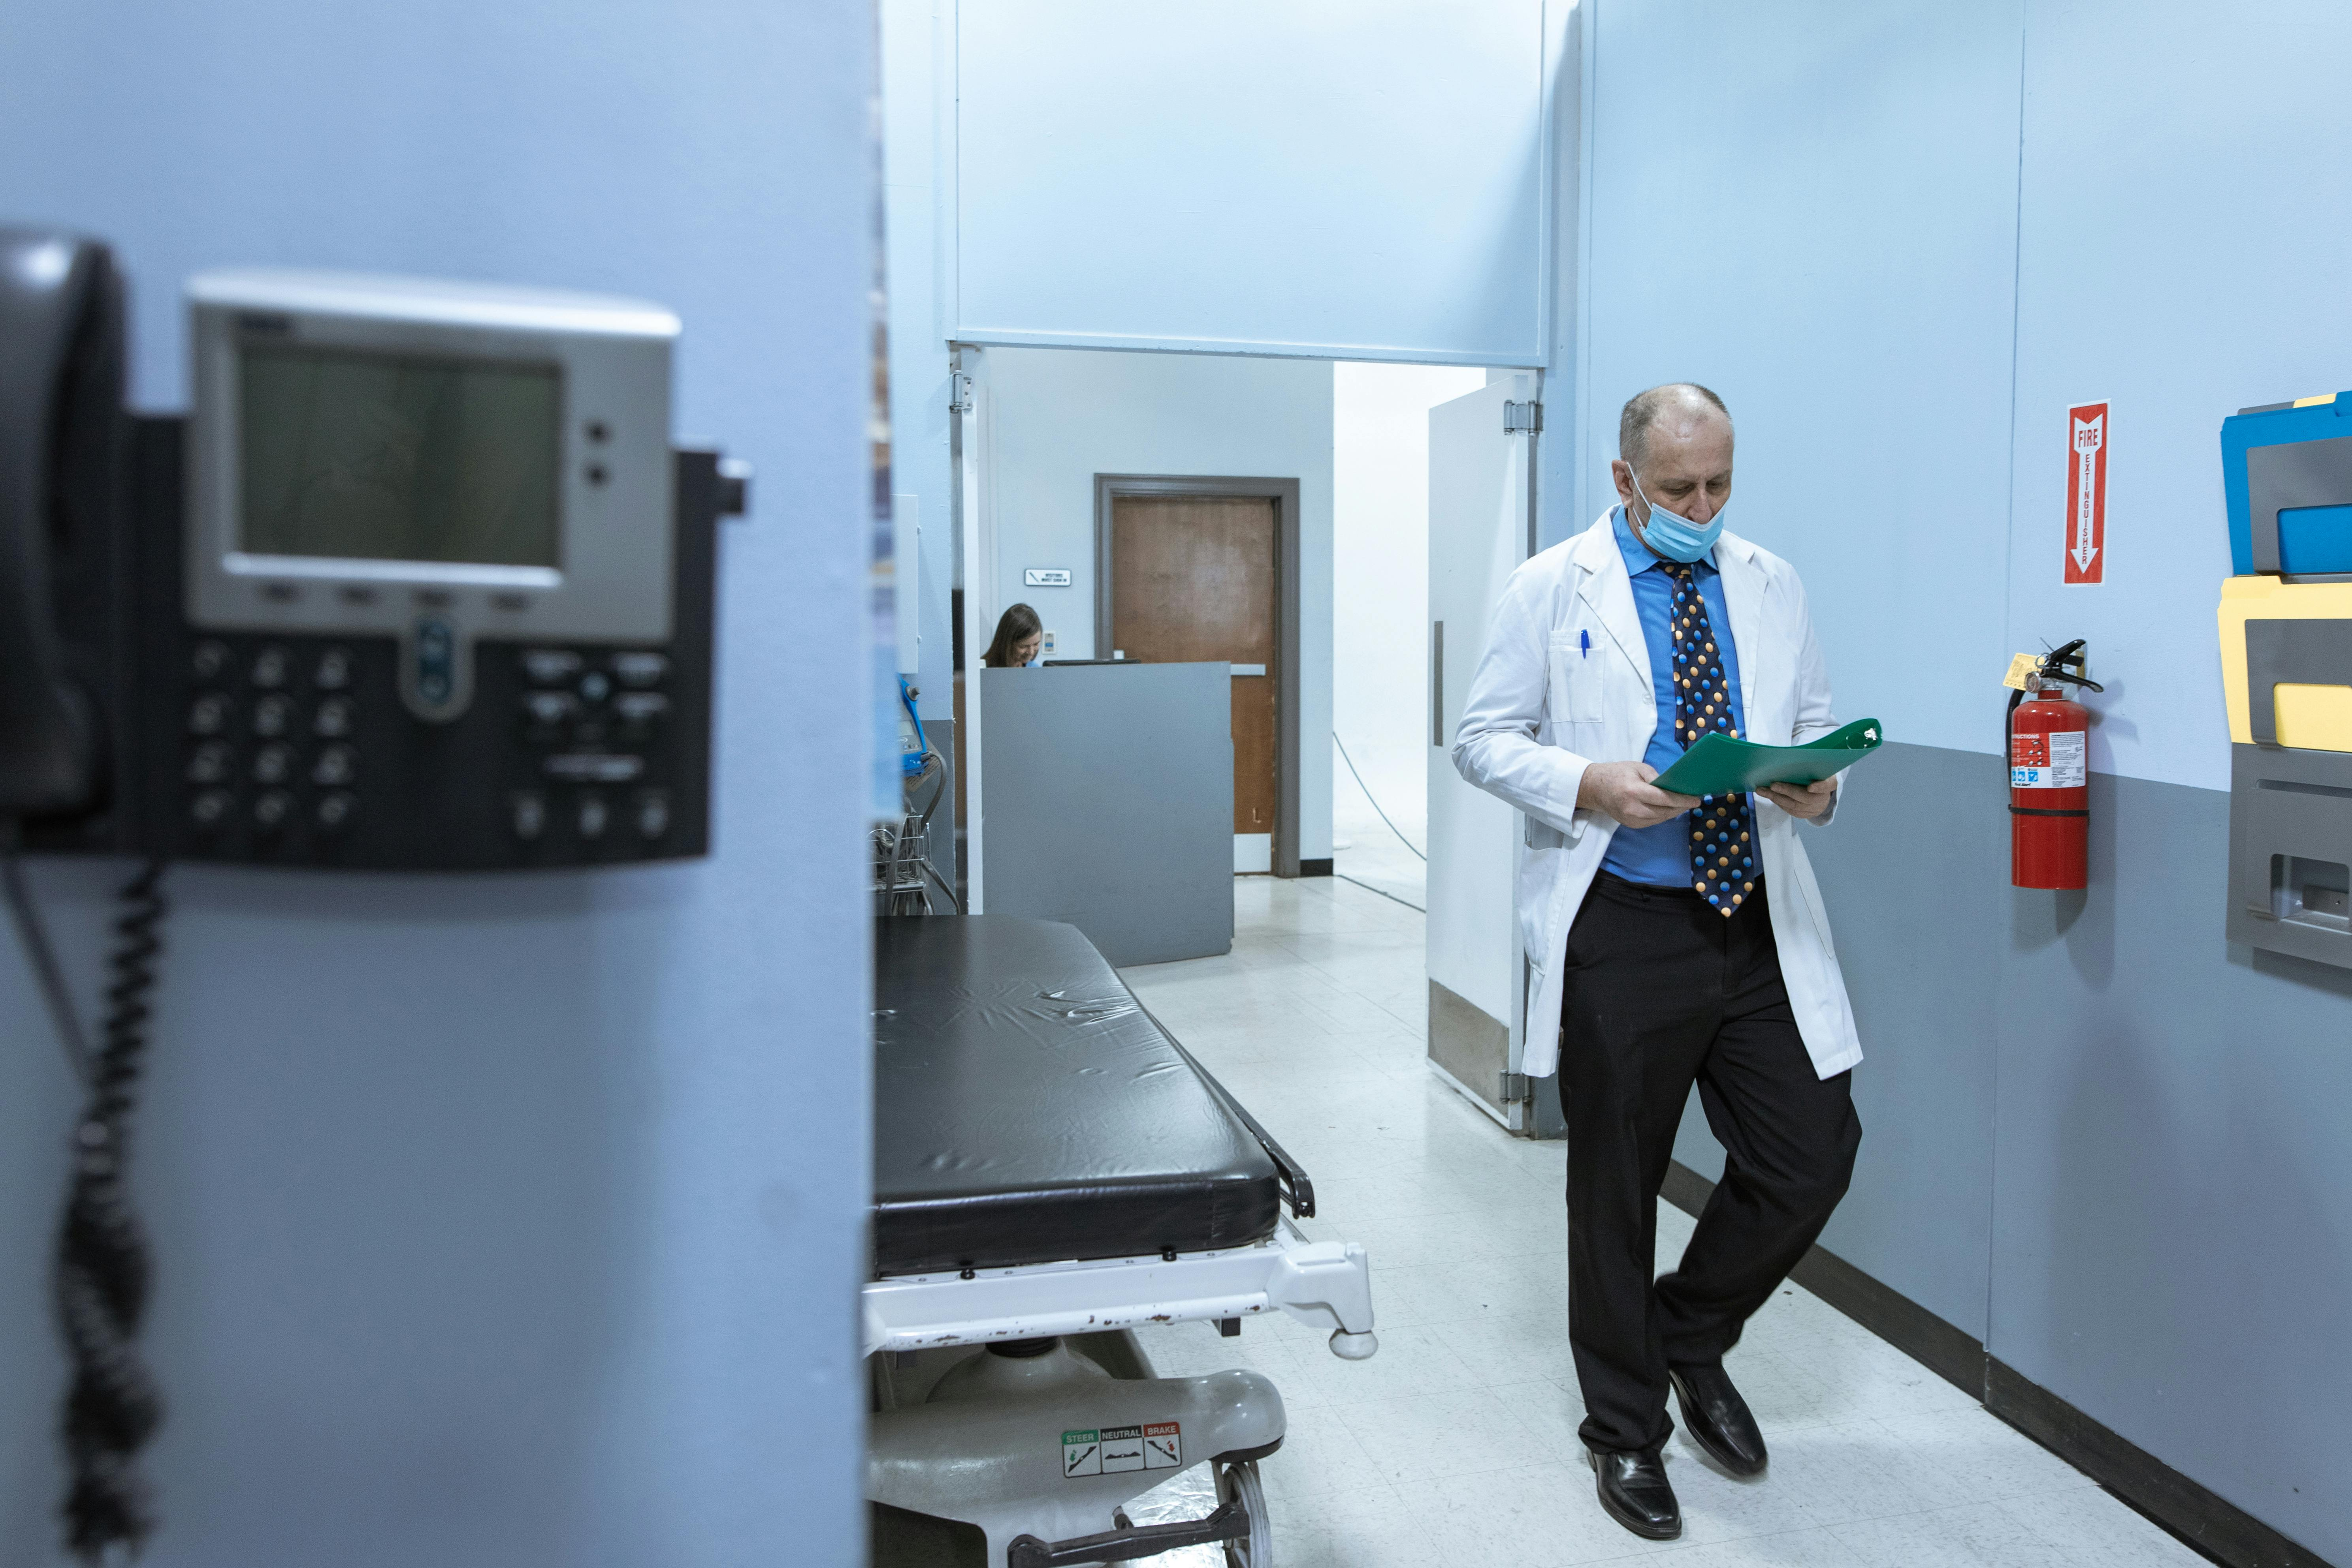extintor: (1984, 625, 2123, 905)
